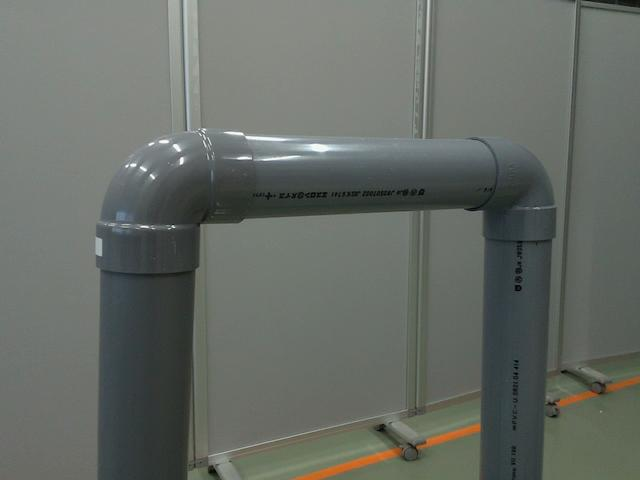bent: (96, 130, 252, 274), (457, 134, 558, 240)
